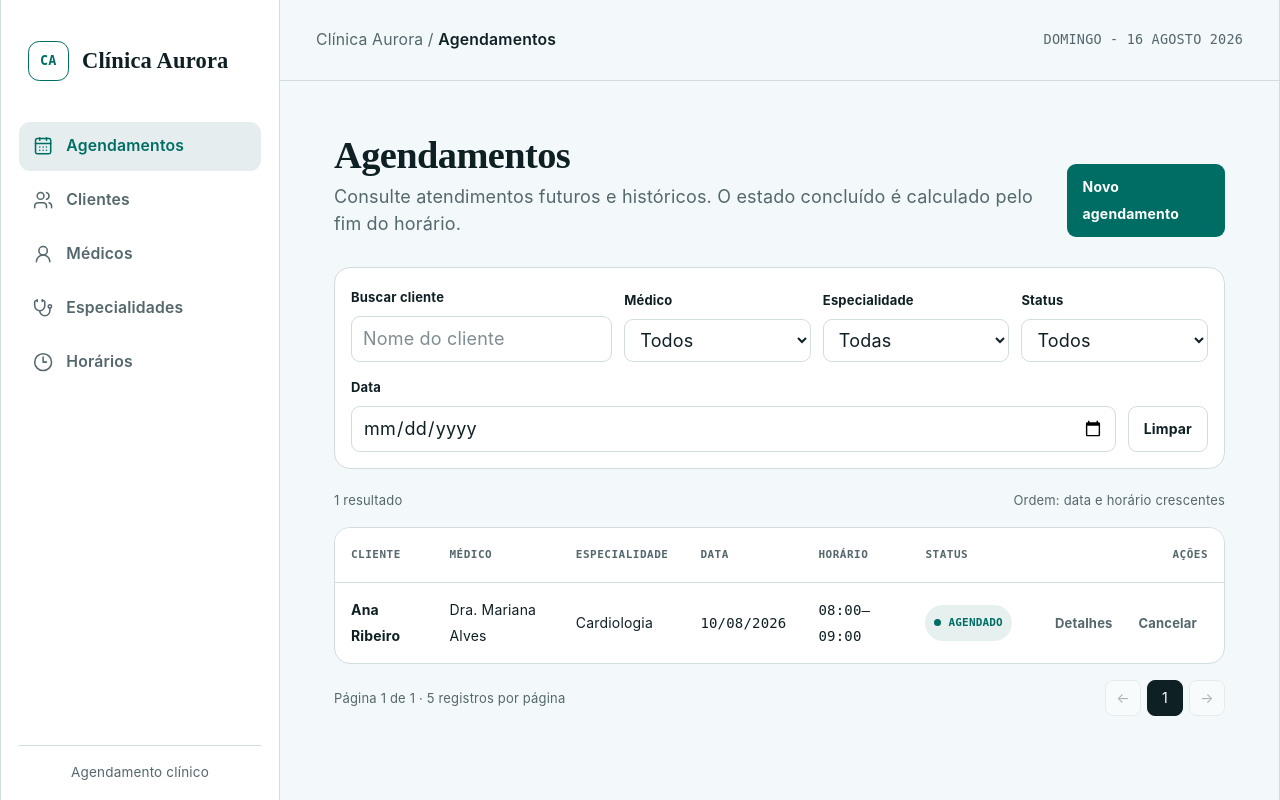
Test case: Dashboard/Agendamentos — contrato do protótipo › preserva estado vazio com causa e recuperação por filtros
Expected: the text "Ana Ribeiro" is shown, left=351, top=601, right=400, bottom=644
Step 1. Select "AGENDADO" in the dropdown labelled "Status" → (1115, 340), box left=1021, top=319, right=1208, bottom=362
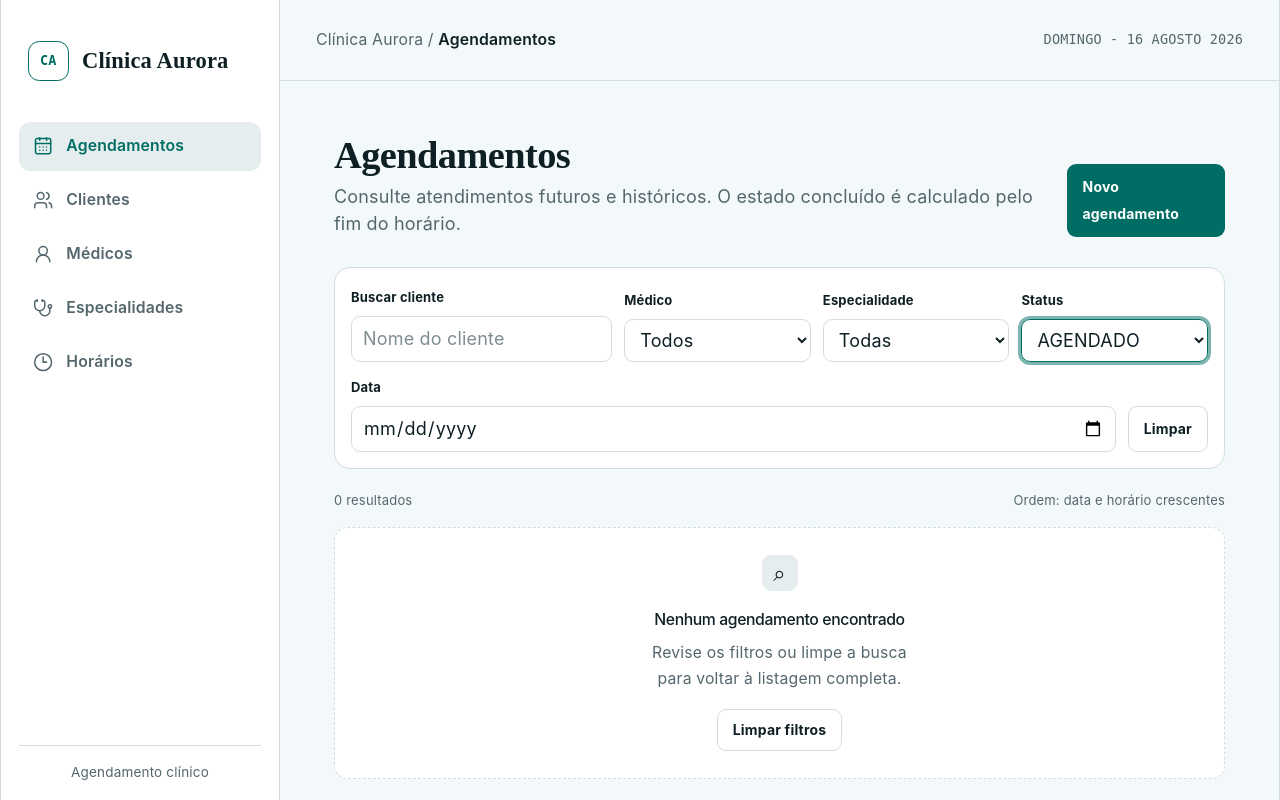
Expected: the text "Nenhum agendamento encontrado" is shown, left=654, top=609, right=905, bottom=631
Expected: the text "Revise os filtros ou limpe a busca para voltar à listagem completa." is shown, left=652, top=643, right=907, bottom=688
Expected: the button "Limpar filtros" is enabled, left=717, top=709, right=842, bottom=751
